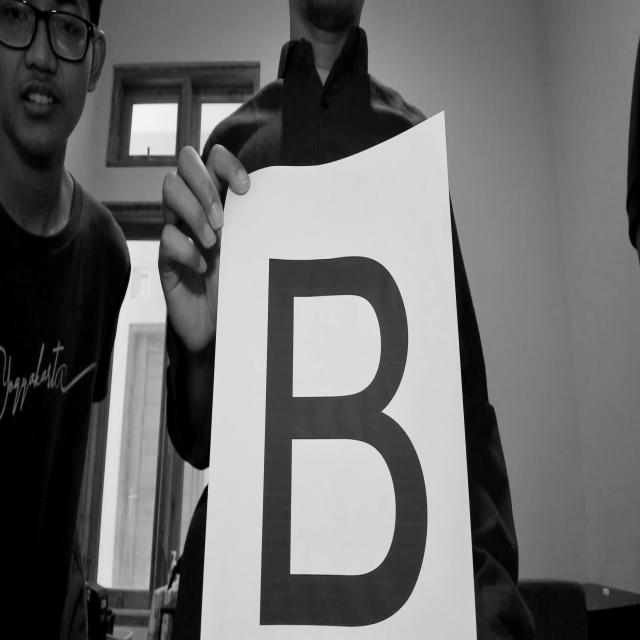b: (261, 232, 432, 640)
